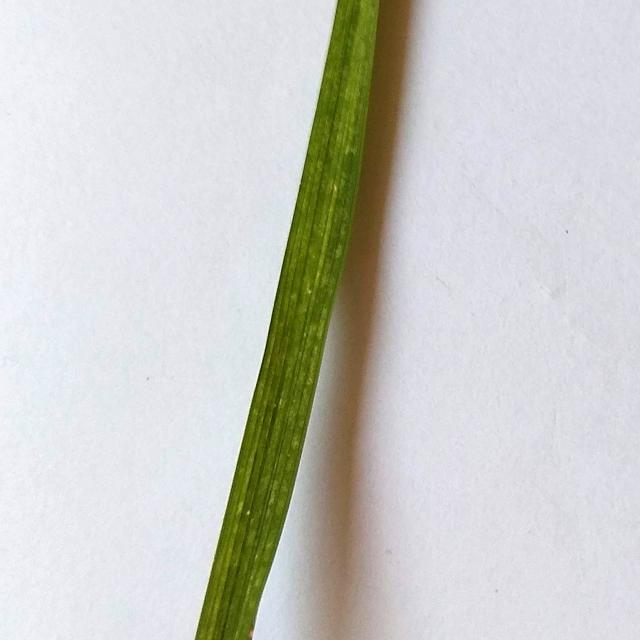Rice_Healthy: (194, 0, 379, 640)
